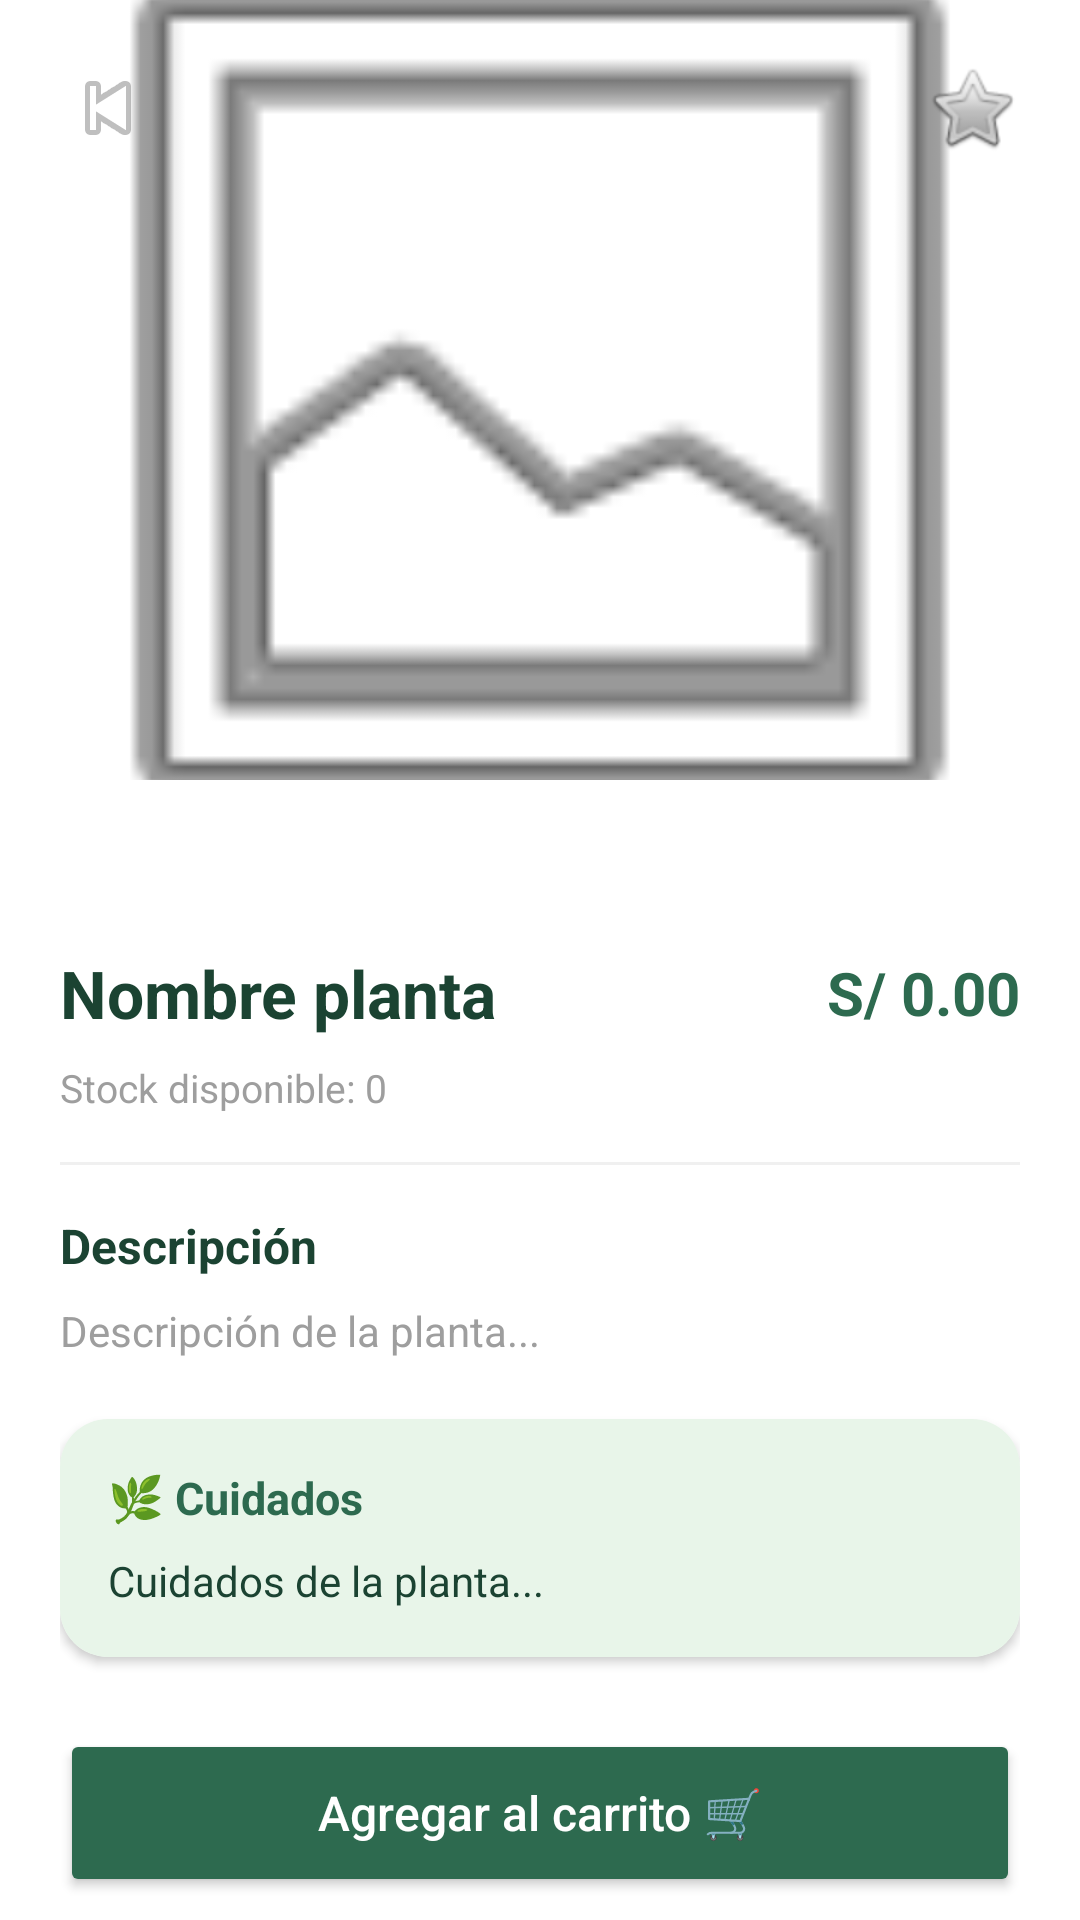

Screen size 1080w x 1920h. Icon name, then its center in pixels as (x=x, y=y):
Favorito: (x=972, y=108)
